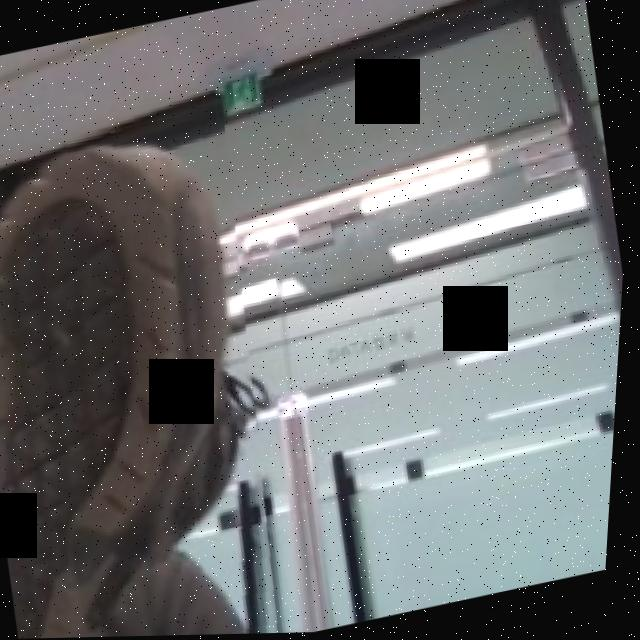shoe: (0, 101, 328, 640)
